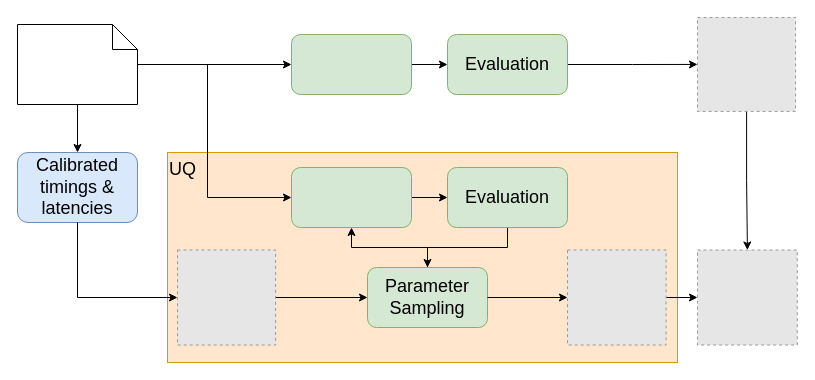
This 815x380 diagram has some shape labels left out. Grey dashed boxes stand in for pictures. The shapes that lost their labels are listed below. From the top down, each one's box as (x1, y1, x2, y2) in pixels, then its label:
(16, 24, 138, 104): Test- scenario
(290, 34, 412, 94): Reference System
(290, 166, 412, 228): Digital Twin
